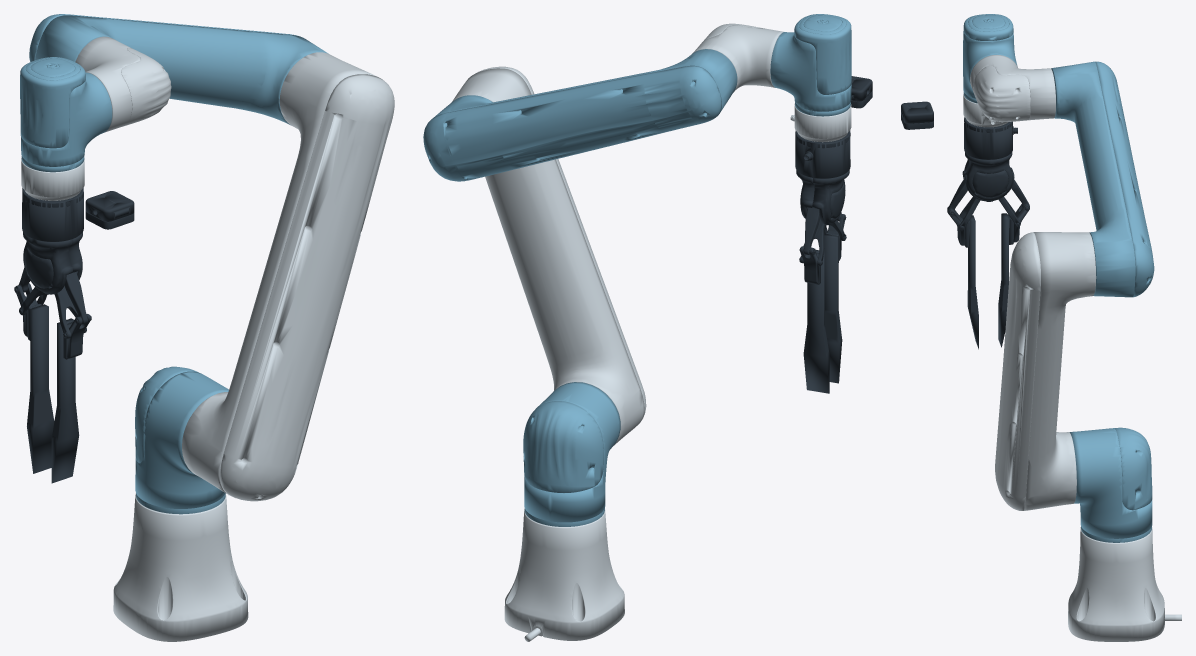
The model's file is nova5.glb.
3 views of the same model, side by side, from view 1: azimuth 30°, elevation 25°; view 2: azimuth 150°, elevation 25°; view 3: azimuth 270°, elevation 25° (orthographic). The views are drawn at different scales.
Parts seen in each view (by area): view 1: nova5 / Link2 visual, nova5 / Link3 visual, nova5 / base_link visual, nova5 / Link1 visual, nova5 / Link5 visual, nova5 / Link4 visual, nova5 / gripper_base_link visual, nova5 / gripper_r_tong visual, nova5 / gripper_l_tong visual, nova5 / Link6 visual, nova5 / wrist_camera_link visual, nova5 / gripper_l_link_finger visual (+2 smaller); view 2: nova5 / Link2 visual, nova5 / Link3 visual, nova5 / base_link visual, nova5 / Link1 visual, nova5 / Link5 visual, nova5 / gripper_base_link visual, nova5 / Link4 visual, nova5 / gripper_r_tong visual, nova5 / gripper_l_tong visual, nova5 / Link6 visual; view 3: nova5 / Link2 visual, nova5 / Link3 visual, nova5 / base_link visual, nova5 / Link1 visual, nova5 / Link4 visual, nova5 / gripper_base_link visual, nova5 / Link5 visual, nova5 / gripper_r_tong visual, nova5 / gripper_l_tong visual, nova5 / wrist_camera_link visual, nova5 / Link6 visual.
Boxes of the visible parts, x1=… form: nova5 / Link2 visual: x1=182, y1=52, x2=394, y2=501; nova5 / Link3 visual: x1=29, y1=14, x2=328, y2=125; nova5 / base_link visual: x1=113, y1=494, x2=248, y2=641; nova5 / Link1 visual: x1=135, y1=366, x2=228, y2=514; nova5 / Link5 visual: x1=20, y1=57, x2=112, y2=172; nova5 / Link4 visual: x1=75, y1=36, x2=171, y2=132; nova5 / gripper_base_link visual: x1=22, y1=188, x2=83, y2=294; nova5 / gripper_r_tong visual: x1=27, y1=304, x2=54, y2=473; nova5 / gripper_l_tong visual: x1=51, y1=318, x2=79, y2=483; nova5 / Link6 visual: x1=21, y1=158, x2=84, y2=200; nova5 / wrist_camera_link visual: x1=85, y1=191, x2=134, y2=229; nova5 / gripper_l_link_finger visual: x1=63, y1=314, x2=91, y2=359; nova5 / Link2 visual: x1=451, y1=66, x2=646, y2=445; nova5 / Link3 visual: x1=423, y1=49, x2=737, y2=181; nova5 / base_link visual: x1=504, y1=509, x2=624, y2=641; nova5 / Link1 visual: x1=523, y1=382, x2=620, y2=526; nova5 / Link5 visual: x1=770, y1=14, x2=851, y2=116; nova5 / gripper_base_link visual: x1=795, y1=130, x2=850, y2=225; nova5 / Link4 visual: x1=692, y1=23, x2=783, y2=92; nova5 / gripper_r_tong visual: x1=803, y1=250, x2=829, y2=393; nova5 / gripper_l_tong visual: x1=824, y1=234, x2=842, y2=383; nova5 / Link6 visual: x1=790, y1=104, x2=851, y2=142; nova5 / Link2 visual: x1=995, y1=232, x2=1096, y2=510; nova5 / Link3 visual: x1=1051, y1=61, x2=1154, y2=297; nova5 / base_link visual: x1=1068, y1=527, x2=1181, y2=641; nova5 / Link1 visual: x1=1069, y1=427, x2=1152, y2=542; nova5 / Link4 visual: x1=970, y1=55, x2=1055, y2=121; nova5 / gripper_base_link visual: x1=962, y1=117, x2=1017, y2=201; nova5 / Link5 visual: x1=963, y1=14, x2=1017, y2=103; nova5 / gripper_r_tong visual: x1=998, y1=213, x2=1008, y2=347; nova5 / gripper_l_tong visual: x1=967, y1=215, x2=978, y2=349; nova5 / wrist_camera_link visual: x1=901, y1=101, x2=933, y2=129; nova5 / Link6 visual: x1=963, y1=94, x2=1008, y2=127.
Size of the model in its own units: 0.5047 by 0.7986 by 0.3906.
